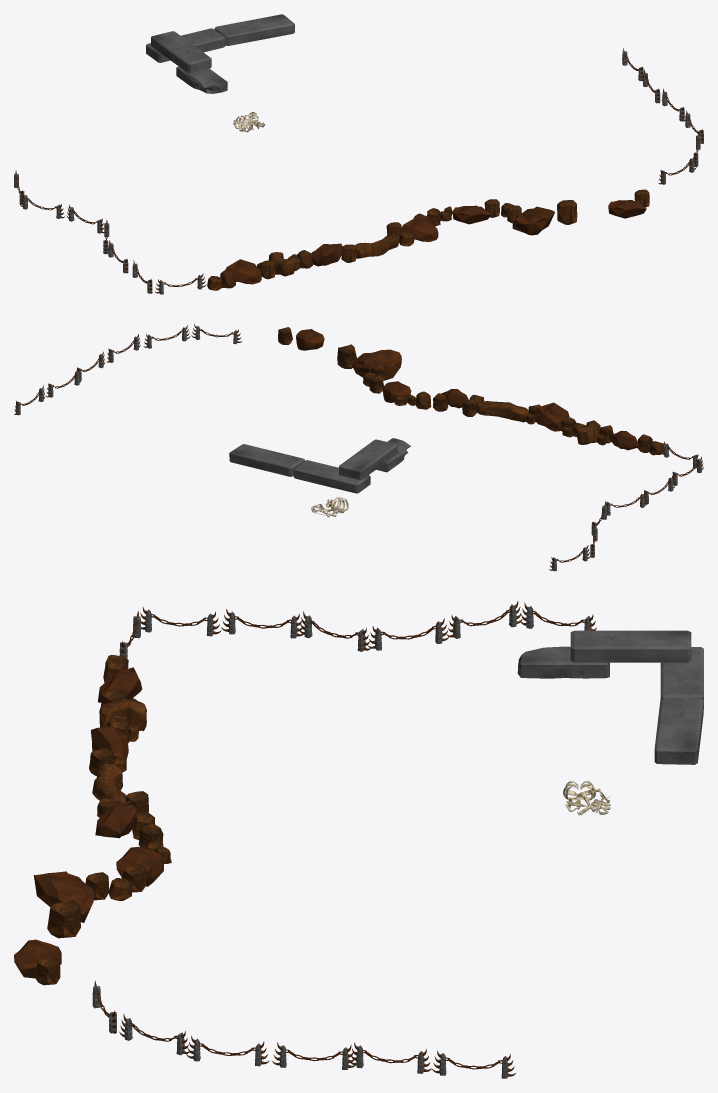
The model's file is LV2Noclip.fbx.
3 views of the same model, one above another, from view 1: azimuth 30°, elevation 25°; view 2: azimuth 150°, elevation 25°; view 3: azimuth 270°, elevation 25° (orthographic). The views are drawn at different scales.
Parts seen in each view (by area): view 1: polySurface144; view 2: polySurface144; view 3: polySurface144.
Boxes of the visible parts, <box> form: polySurface144: <box>14,14,703,294</box>; polySurface144: <box>14,324,703,571</box>; polySurface144: <box>14,601,703,1078</box>.
Size of the model in its own units: 426 by 65.75 by 273.
